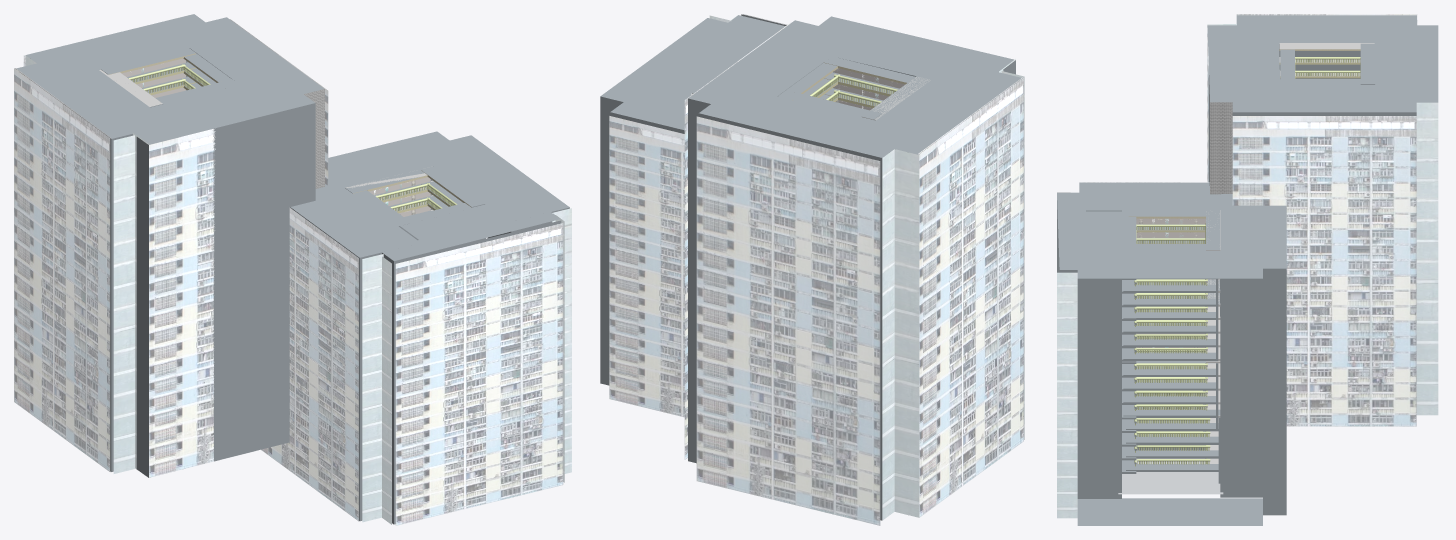
The model's file is TwinTowerFinalFinal-optimized.glb.
3 views of the same model, side by side, from view 1: azimuth 30°, elevation 25°; view 2: azimuth 150°, elevation 25°; view 3: azimuth 270°, elevation 25° (orthographic). The views are drawn at different scales.
Parts seen in each view (by area): view 1: Assembly-37, Geom3D_ (×6), Geom3D (×4); view 2: Assembly-37, Geom3D_ (×6), Geom3D (×3); view 3: Geom3D_ (×15), Assembly-37, Geom3D (×14).
Boxes of the visible parts, left/top/right/bottom form: Assembly-37: left=14, top=14, right=571, bottom=525; Geom3D_ (×6): left=16, top=14, right=569, bottom=524; Geom3D (×4): left=122, top=58, right=560, bottom=260; Assembly-37: left=609, top=14, right=1024, bottom=525; Geom3D_ (×6): left=600, top=14, right=1022, bottom=520; Geom3D (×3): left=728, top=15, right=904, bottom=110; Geom3D_ (×15): left=1057, top=15, right=1438, bottom=525; Assembly-37: left=1057, top=14, right=1438, bottom=518; Geom3D (×14): left=1057, top=57, right=1360, bottom=498.
Bounding box in the file's own units: 34.95 × 32.27 × 33.37.
1256 materials, 1252 textured.
